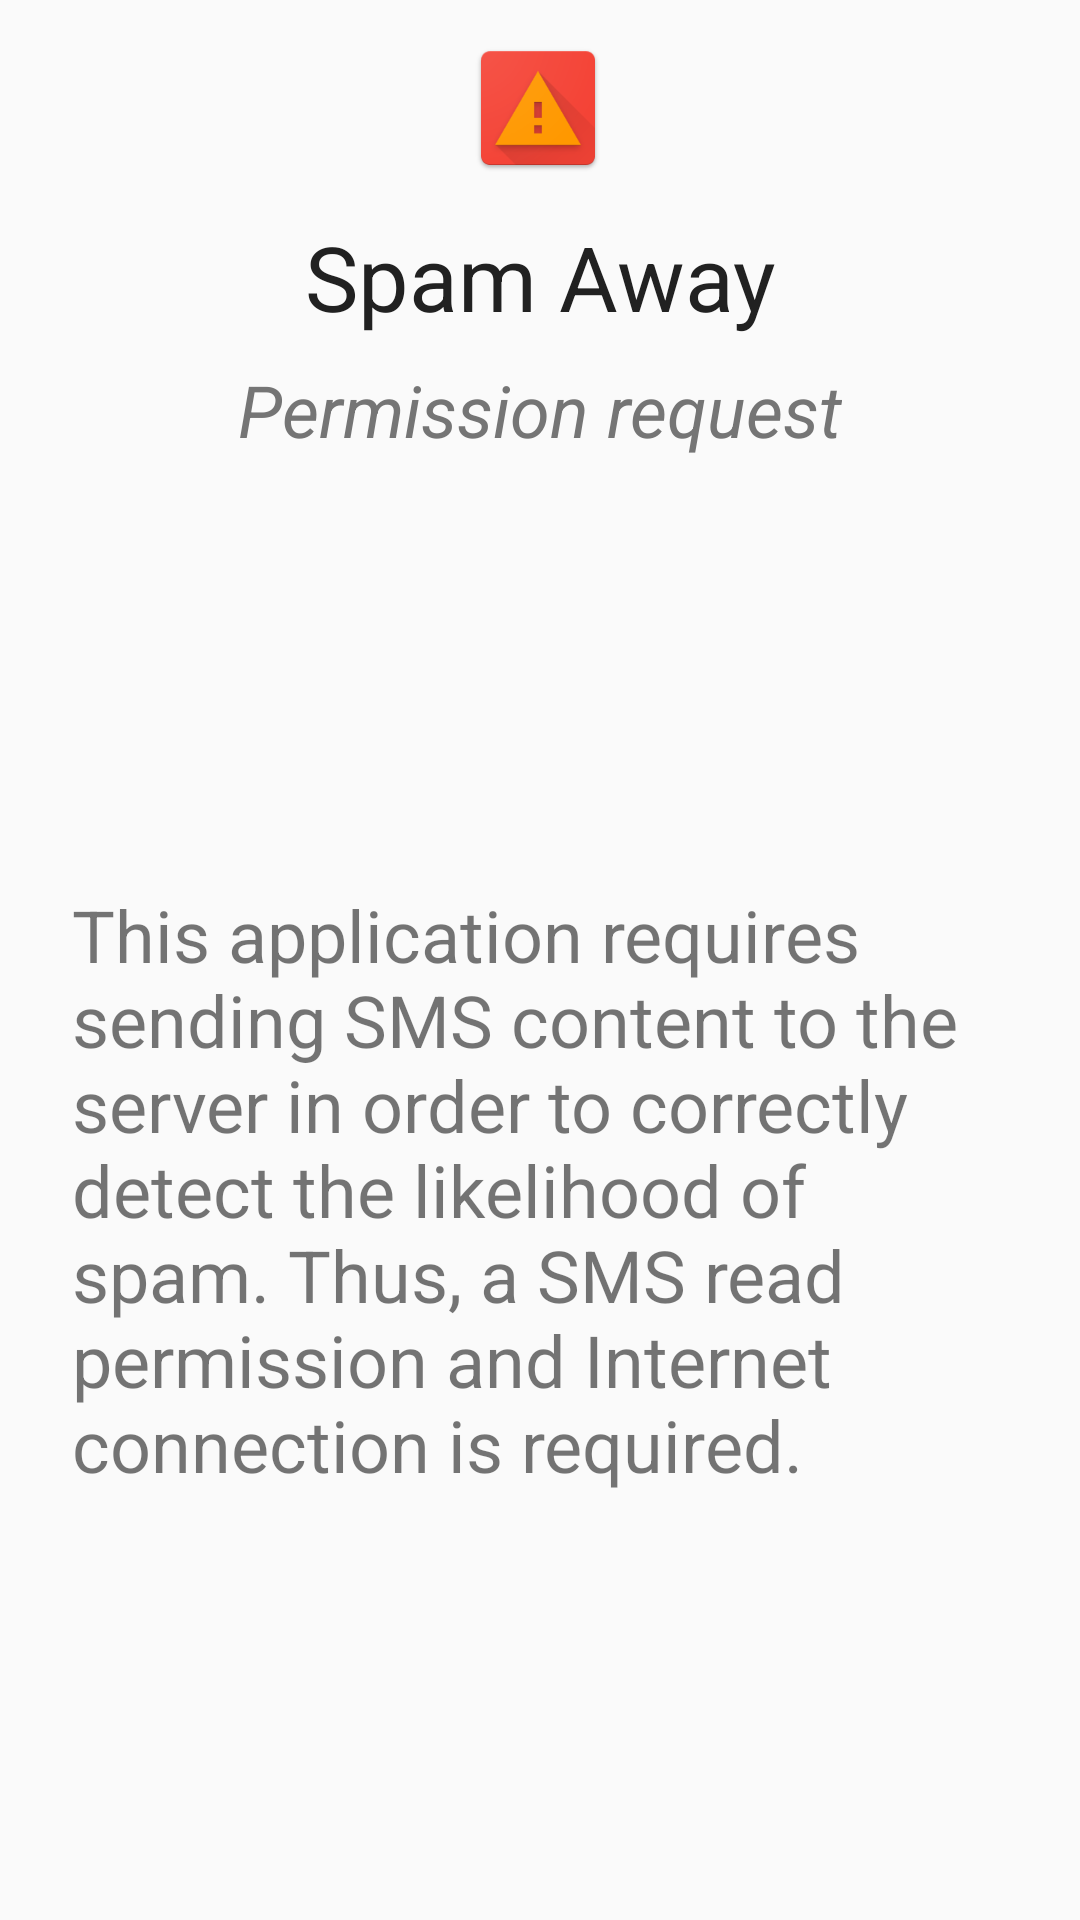

Locate icon controls on the screen. Image size 1080px x 1920px, boxes as (x1, y1, x2, y2).
warning: (480, 51, 596, 168)
